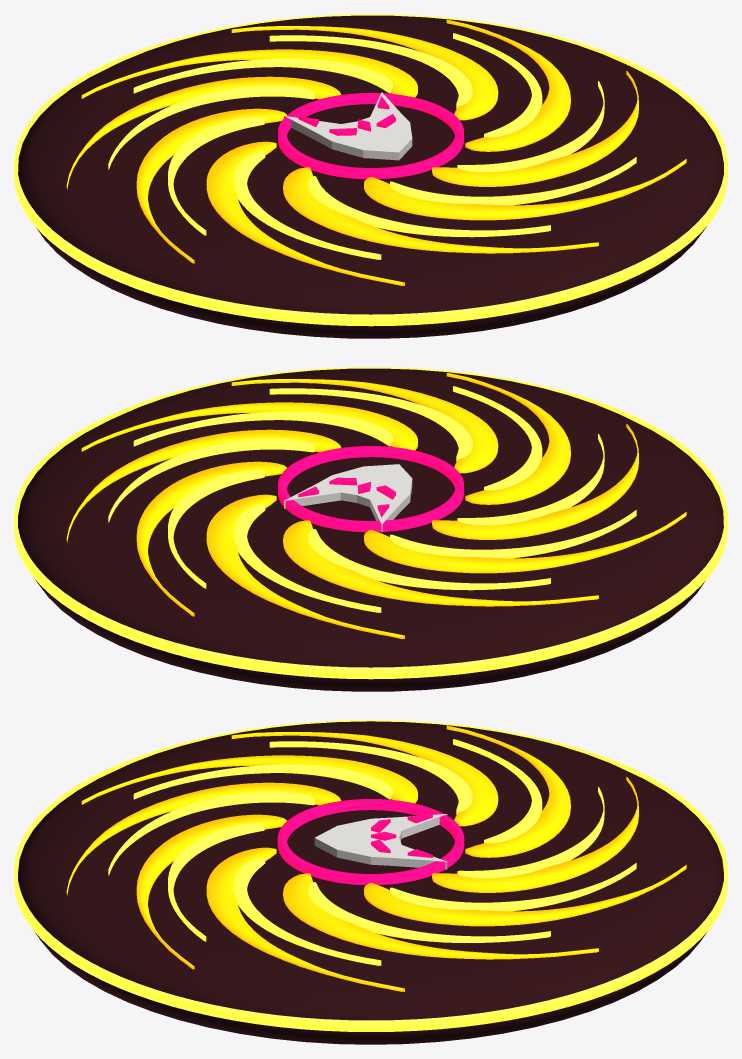
Rendered from Disc_KitsuneFlame.fbx.
3 views of the same model, one above another, from view 1: azimuth 30°, elevation 25°; view 2: azimuth 150°, elevation 25°; view 3: azimuth 270°, elevation 25° (orthographic).
Parts seen in each view (by area): view 1: Kitsune_Lacquer, Kitsune_Fire, Kitsune_Fire2, Kitsune_Red, Kitsune_Mask; view 2: Kitsune_Lacquer, Kitsune_Fire, Kitsune_Fire2, Kitsune_Red, Kitsune_Mask; view 3: Kitsune_Lacquer, Kitsune_Fire, Kitsune_Fire2, Kitsune_Red, Kitsune_Mask.
Part boxes in pixels (x1,y1,x2,y2): Kitsune_Lacquer: (18,15,723,338); Kitsune_Fire: (66,20,686,285); Kitsune_Fire2: (14,14,727,326); Kitsune_Red: (278,93,463,179); Kitsune_Mask: (284,92,412,160); Kitsune_Lacquer: (18,368,723,691); Kitsune_Fire: (66,373,686,638); Kitsune_Fire2: (14,367,727,679); Kitsune_Red: (278,446,463,532); Kitsune_Mask: (284,464,412,532); Kitsune_Lacquer: (18,721,723,1044); Kitsune_Fire: (66,725,686,991); Kitsune_Fire2: (14,720,727,1031); Kitsune_Red: (277,799,464,885); Kitsune_Mask: (314,814,447,869).
Bounding box in the file's own units: 2.53 × 0.267 × 2.53.
